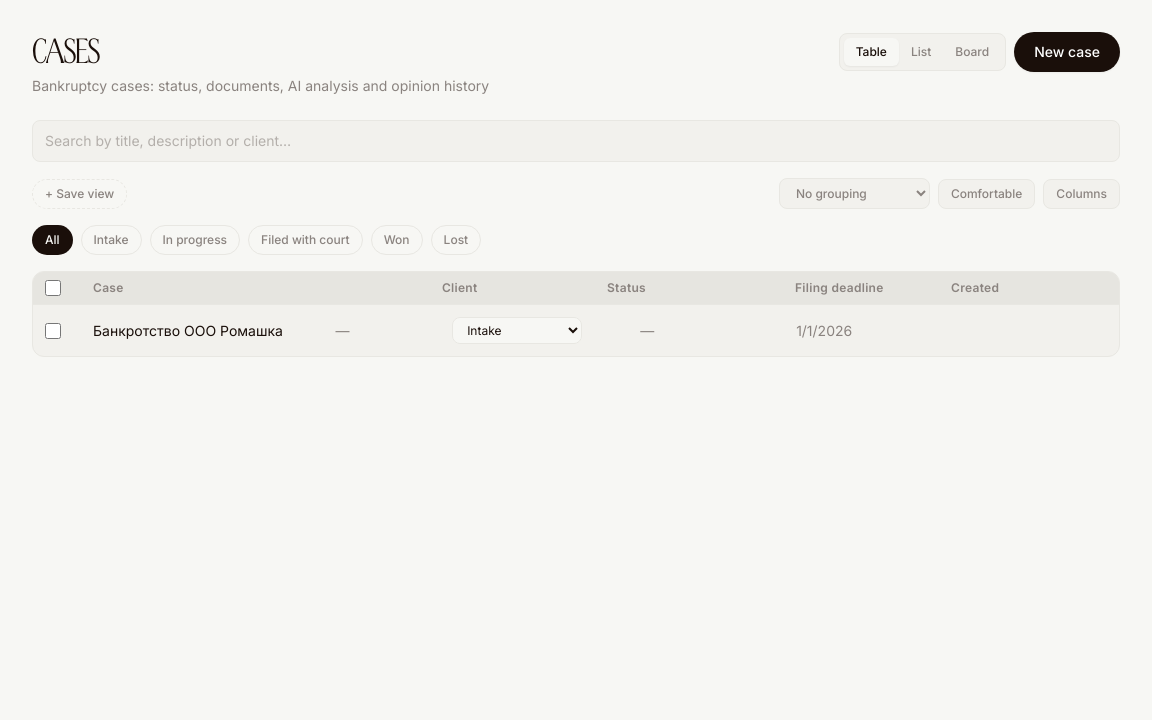
Test case: CasesPage › switches to the cards view and selecting a card shows the bulk action bar
Expected: the link "Банкротство ООО Ромашка" is shown, [93,322,283,338]
Click the button "List" at [921, 52], box [899,38,943,66]
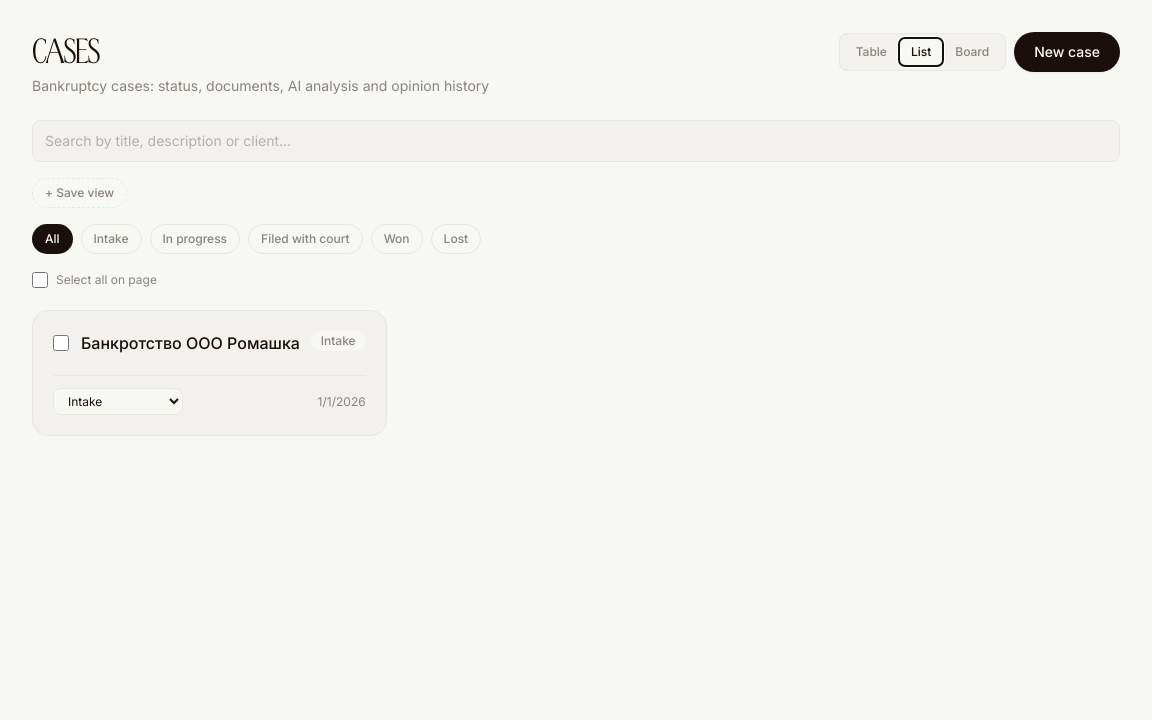
Result: the checkbox named "Select case" is shown
Click the checkbox named "Select case “Банкротство ООО Ромашка”" at [61, 343], box [53,335,69,351]
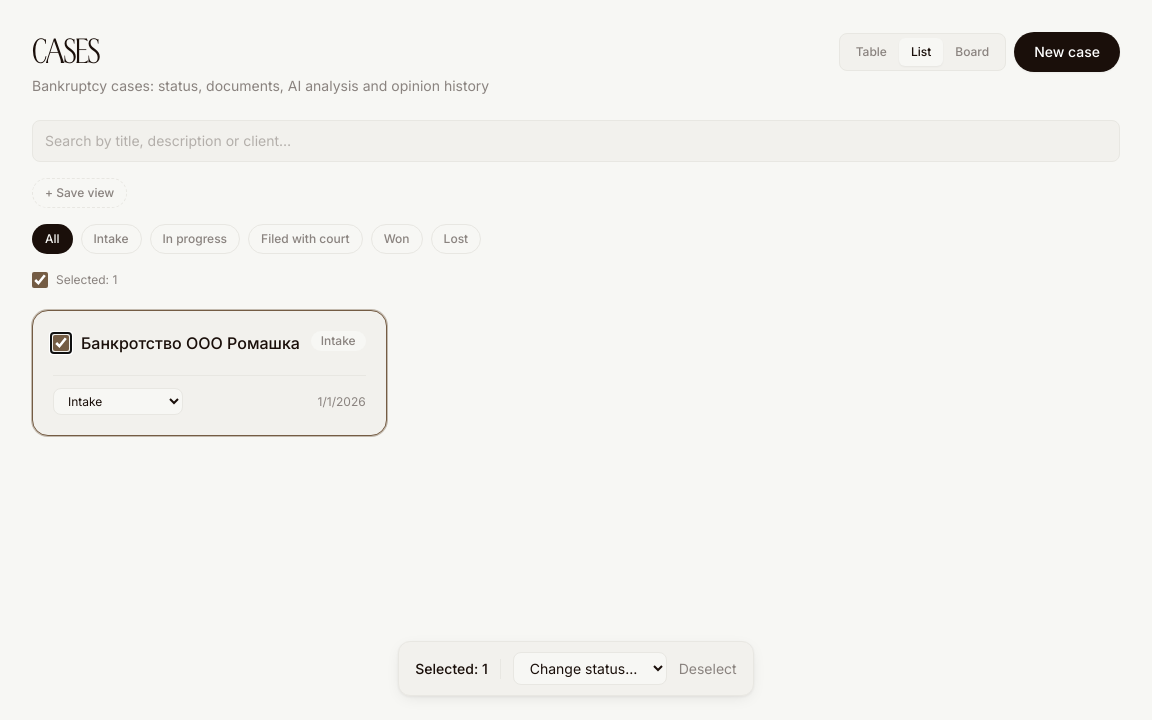
Result: the text "Selected: 1" is shown 2 times at [32,272,117,288]; [415,658,488,678]
Click the button "Deselect" at [708, 668], box [679,658,737,678]
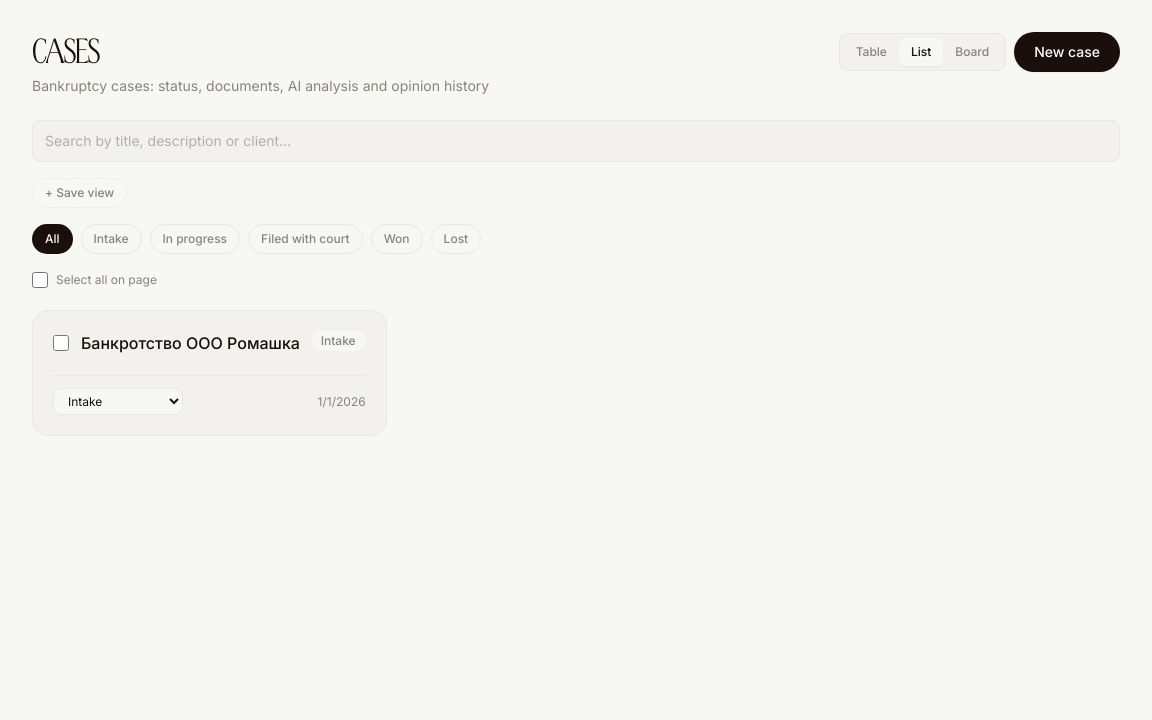
Result: the text "Selected: 1" is gone
